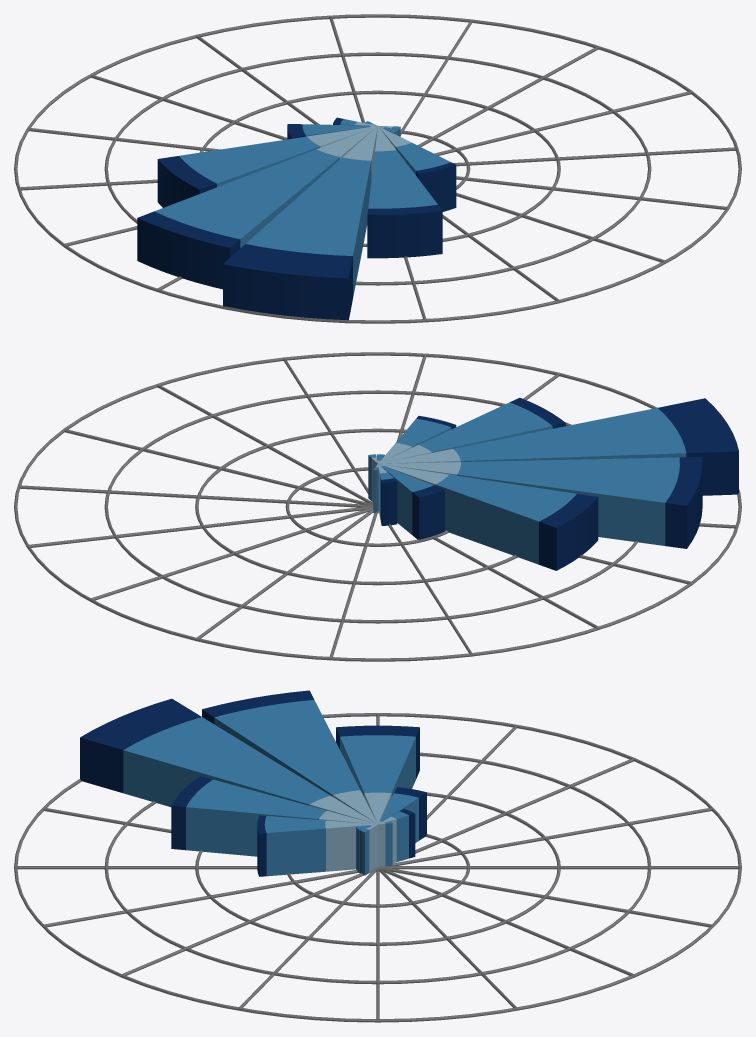
Rendered from Wind_Rose.glb.
3 renders of one model, top to bottom at view 1: azimuth 30°, elevation 25°; view 2: azimuth 150°, elevation 25°; view 3: azimuth 270°, elevation 25°, orthographic.
Parts seen in each view (by area): view 1: Rose 1; view 2: Rose 1; view 3: Rose 1.
Boxes of the visible parts, x1,y1,x2,y2 form: Rose 1: (14,14,741,323); Rose 1: (14,352,741,661); Rose 1: (14,690,741,1022).
Bounding box in the file's own units: 7.64 × 0.5156 × 7.64.
